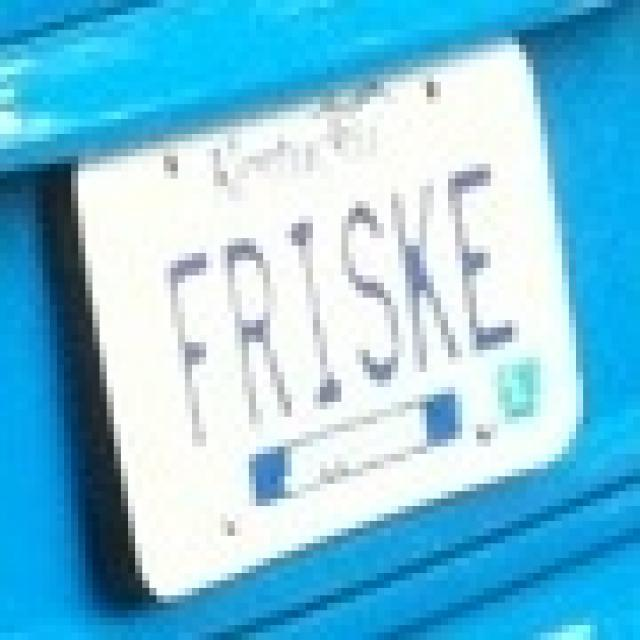licenseplate: (34, 18, 598, 622)
